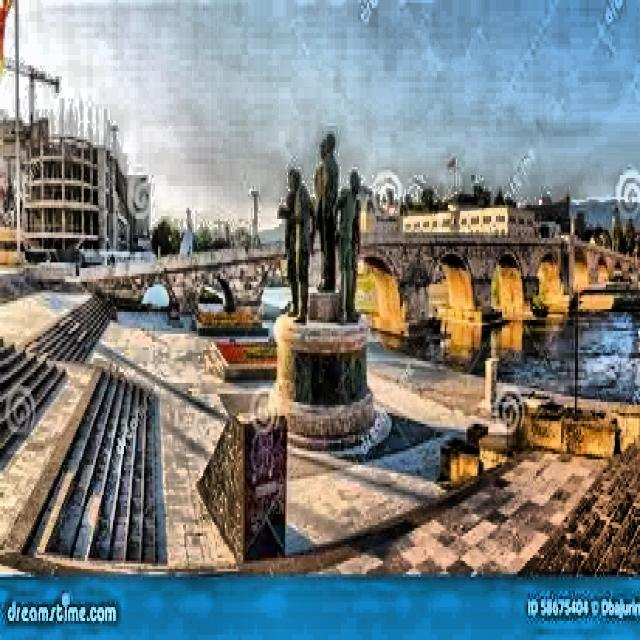stone bridge: (60, 234, 640, 334)
